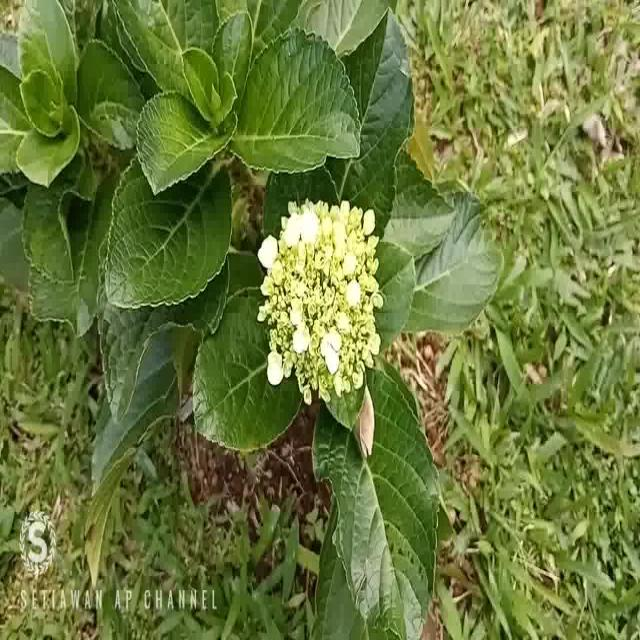Flower: (260, 197, 382, 415)
